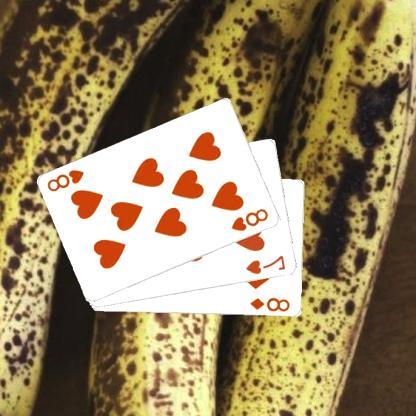7H: (245, 253, 289, 276)
8D: (249, 295, 293, 313)
8H: (230, 205, 272, 233), (46, 167, 87, 193)
